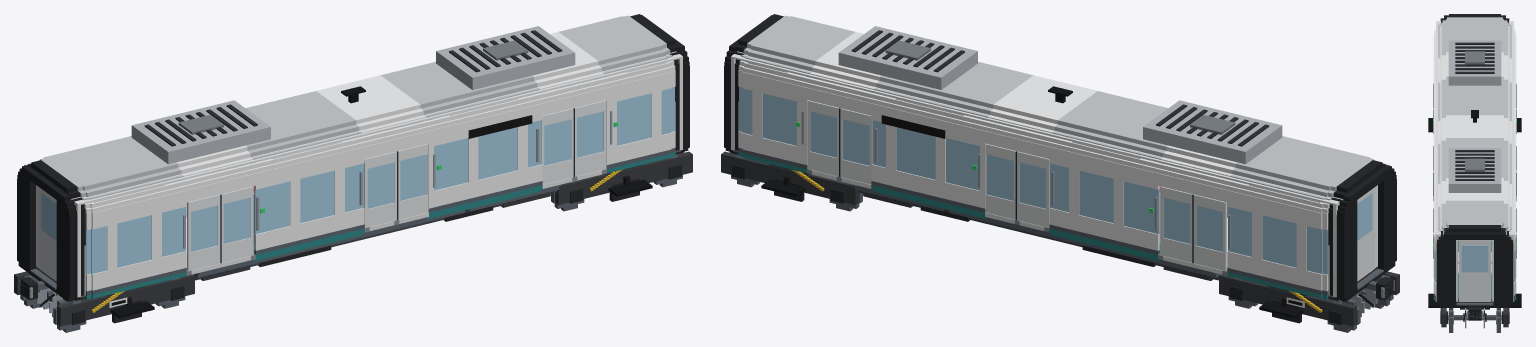
The model's file is mp14_car.obj.
3 views of the same model, side by side, from view 1: azimuth 30°, elevation 25°; view 2: azimuth 150°, elevation 25°; view 3: azimuth 270°, elevation 25° (orthographic). The views are drawn at different scales.
Visible parts, largest first — view 1: SHELL, SHELL_roof, SHELL_diaphragm, BOGEY_REAR, BOGEY_FRONT, SHELL_ceiling, EXTERNAL_DOOR_4_CG_DR1_TOGGLE_TL_-0.76_X, EXTERNAL_DOOR_10_CG_DR2_TOGGLE_TL_-0.76_X, EXTERNAL_DOOR_16_CG_DR3_TOGGLE_TL_-0.76_X, EXTERNAL_DOOR_5_CG_DR1_TOGGLE_TL_0.76_X, EXTERNAL_DOOR_17_CG_DR3_TOGGLE_TL_0.76_X, EXTERNAL_DOOR_11_CG_DR2_TOGGLE_TL_0.76_X (+6 smaller); view 2: SHELL, SHELL_roof, SHELL_diaphragm, BOGEY_REAR, BOGEY_FRONT, SHELL_ceiling, EXTERNAL_DOOR_7_CG_DL1_TOGGLE_TL_-0.76_X, EXTERNAL_DOOR_13_CG_DL2_TOGGLE_TL_-0.76_X, EXTERNAL_DOOR_19_CG_DL3_TOGGLE_TL_-0.76_X, EXTERNAL_DOOR_8_CG_DL1_TOGGLE_TL_0.76_X, EXTERNAL_DOOR_20_CG_DL3_TOGGLE_TL_0.76_X, EXTERNAL_DOOR_14_CG_DL2_TOGGLE_TL_0.76_X (+6 smaller); view 3: SHELL, SHELL_roof, SHELL_diaphragm, CONNECTING_DOOR_2_CG_CF_TOGGLE_TL_0.98_Z, SHELL_ceiling, BOGEY_FRONT, SHELL_end, BOGEY_FRONT_WHEEL_2, SHELL_handle, FRAME, BOGEY_REAR, SHELL_gangway.
Part boxes in pixels (left/top/right/bottom): SHELL: left=28, top=14, right=684, bottom=300; SHELL_roof: left=131, top=26, right=575, bottom=164; SHELL_diaphragm: left=17, top=15, right=689, bottom=301; BOGEY_REAR: left=14, top=271, right=194, bottom=326; BOGEY_FRONT: left=555, top=151, right=692, bottom=204; SHELL_ceiling: left=27, top=52, right=680, bottom=204; EXTERNAL_DOOR_4_CG_DR1_TOGGLE_TL_-0.76_X: left=187, top=194, right=221, bottom=270; EXTERNAL_DOOR_10_CG_DR2_TOGGLE_TL_-0.76_X: left=364, top=151, right=398, bottom=227; EXTERNAL_DOOR_16_CG_DR3_TOGGLE_TL_-0.76_X: left=541, top=108, right=574, bottom=184; EXTERNAL_DOOR_5_CG_DR1_TOGGLE_TL_0.76_X: left=221, top=186, right=253, bottom=262; EXTERNAL_DOOR_17_CG_DR3_TOGGLE_TL_0.76_X: left=574, top=100, right=606, bottom=176; EXTERNAL_DOOR_11_CG_DR2_TOGGLE_TL_0.76_X: left=398, top=143, right=428, bottom=219; SHELL: left=729, top=14, right=1385, bottom=300; SHELL_roof: left=838, top=26, right=1282, bottom=164; SHELL_diaphragm: left=724, top=15, right=1396, bottom=301; BOGEY_REAR: left=1219, top=271, right=1399, bottom=326; BOGEY_FRONT: left=721, top=151, right=858, bottom=204; SHELL_ceiling: left=733, top=52, right=1387, bottom=204; EXTERNAL_DOOR_7_CG_DL1_TOGGLE_TL_-0.76_X: left=1192, top=194, right=1226, bottom=270; EXTERNAL_DOOR_13_CG_DL2_TOGGLE_TL_-0.76_X: left=1015, top=151, right=1049, bottom=227; EXTERNAL_DOOR_19_CG_DL3_TOGGLE_TL_-0.76_X: left=839, top=108, right=872, bottom=184; EXTERNAL_DOOR_8_CG_DL1_TOGGLE_TL_0.76_X: left=1160, top=186, right=1192, bottom=262; EXTERNAL_DOOR_20_CG_DL3_TOGGLE_TL_0.76_X: left=807, top=100, right=839, bottom=176; EXTERNAL_DOOR_14_CG_DL2_TOGGLE_TL_0.76_X: left=985, top=143, right=1015, bottom=219; SHELL: left=1433, top=14, right=1516, bottom=305; SHELL_roof: left=1448, top=40, right=1501, bottom=192; SHELL_diaphragm: left=1437, top=15, right=1512, bottom=307; CONNECTING_DOOR_2_CG_CF_TOGGLE_TL_0.98_Z: left=1458, top=241, right=1491, bottom=301; SHELL_ceiling: left=1436, top=22, right=1513, bottom=233; BOGEY_FRONT: left=1428, top=293, right=1521, bottom=327; SHELL_end: left=1436, top=21, right=1513, bottom=301; BOGEY_FRONT_WHEEL_2: left=1448, top=308, right=1501, bottom=332; SHELL_handle: left=1433, top=83, right=1516, bottom=258; FRAME: left=1463, top=306, right=1486, bottom=321; BOGEY_REAR: left=1428, top=118, right=1521, bottom=132; SHELL_gangway: left=1456, top=302, right=1493, bottom=305.
Size of the model in its own units: 16.64 by 3.84 by 2.84.
1 material, 1 textured.
